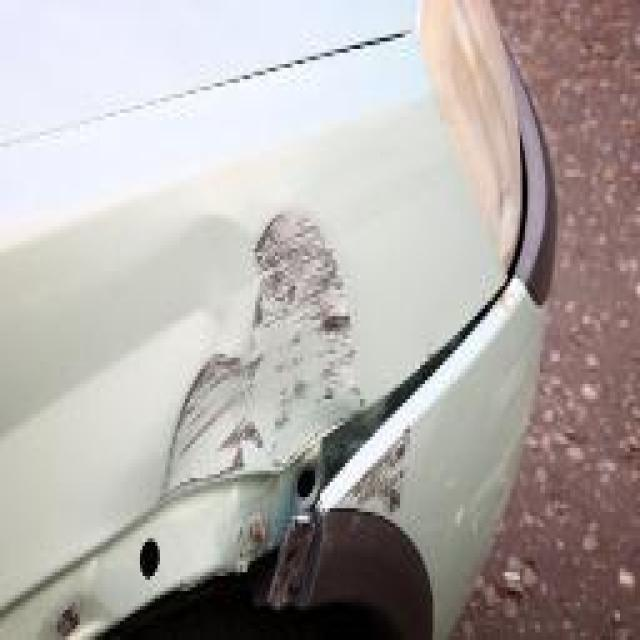Bumper: (268, 361, 486, 640)
Fender: (14, 129, 378, 640)
